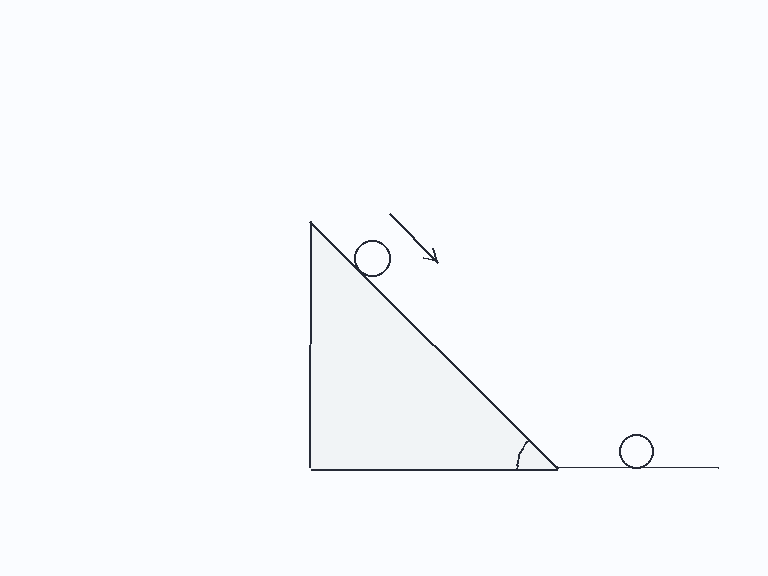ball: (352, 238, 392, 278), (617, 432, 655, 470)
ramp: (308, 219, 559, 470)
